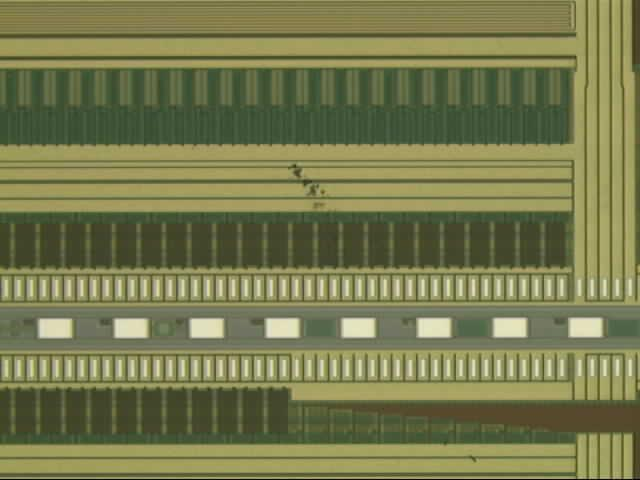PO CONTAMINATION: (285, 151, 481, 476)
